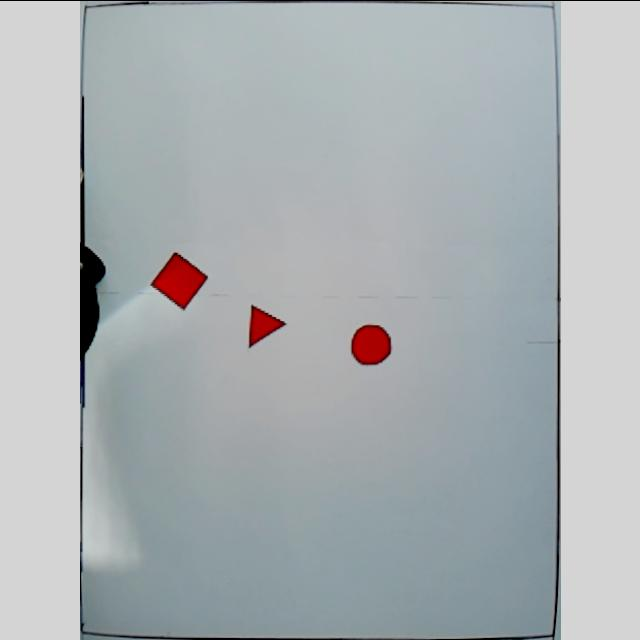redCircle: (348, 322, 392, 366)
redSquare: (148, 248, 210, 310)
redTriangle: (244, 301, 290, 349)
